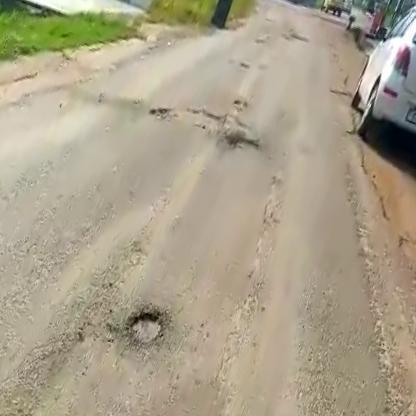pothole: (146, 93, 225, 143), (117, 302, 170, 358), (223, 128, 265, 160)
